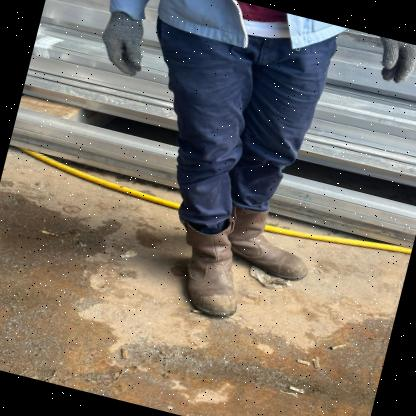bota: (159, 214, 265, 328), (222, 196, 325, 290)
